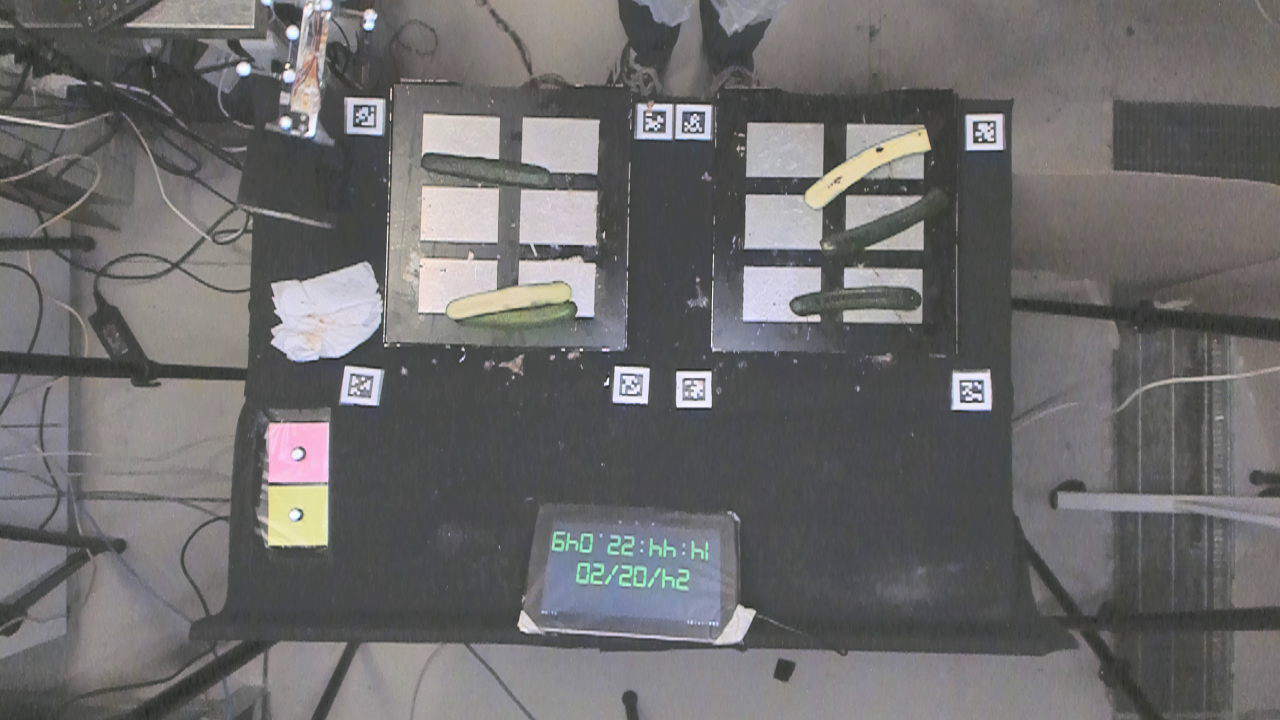marker: (261, 418, 336, 485)
zucchini: (803, 115, 935, 210), (820, 186, 932, 267), (420, 146, 559, 197), (440, 270, 594, 314), (784, 280, 924, 320), (450, 307, 616, 338)
